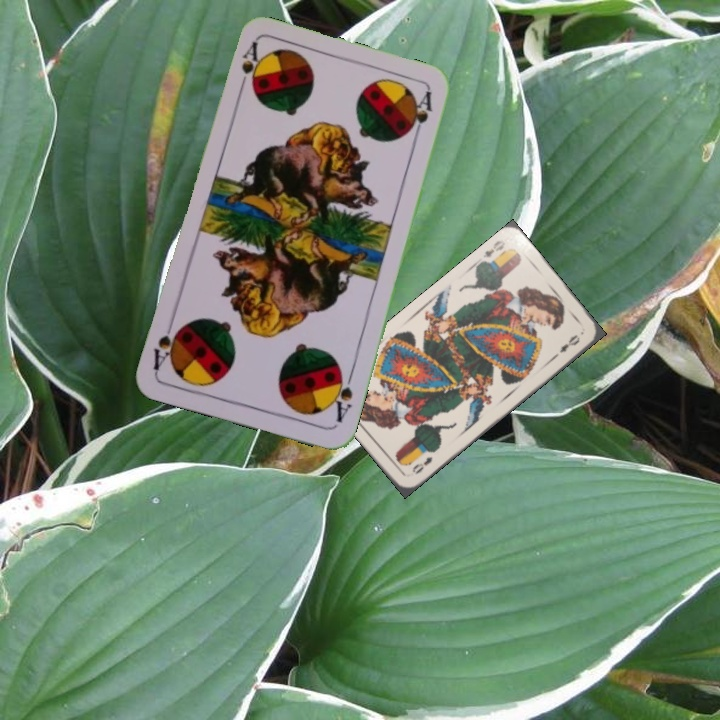EO: (479, 236, 508, 260), (408, 452, 435, 477)
SA: (326, 366, 356, 425), (234, 38, 261, 96)
